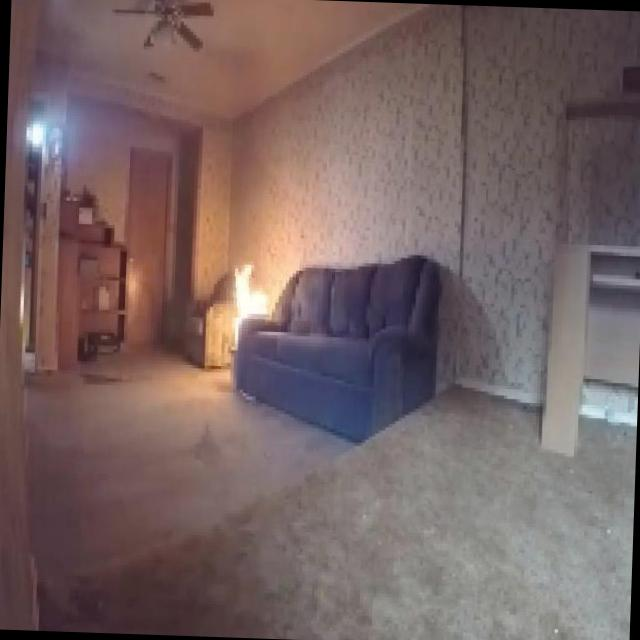fire: (223, 255, 278, 338)
